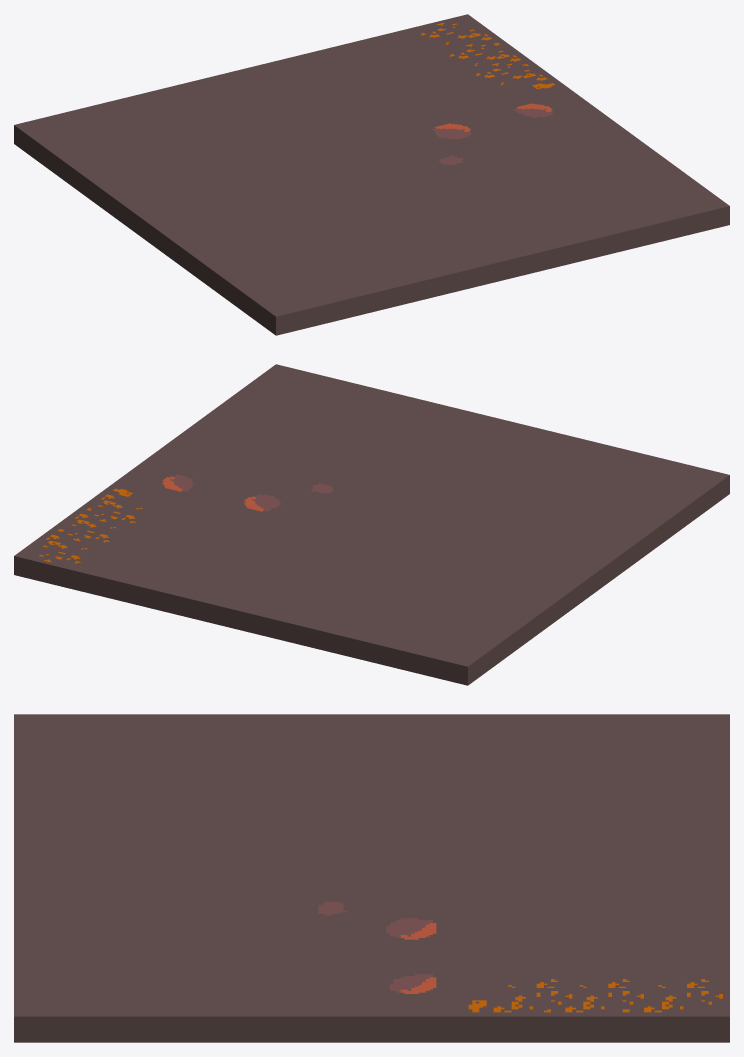
Rendered from map_v1-10.obj.
3 renders of one model, top to bottom at view 1: azimuth 30°, elevation 25°; view 2: azimuth 150°, elevation 25°; view 3: azimuth 270°, elevation 25°, orthographic. The views are drawn at different scales.
Bounding box in the file's own units: 20 × 0.8 × 20.
1 material, 1 textured.
